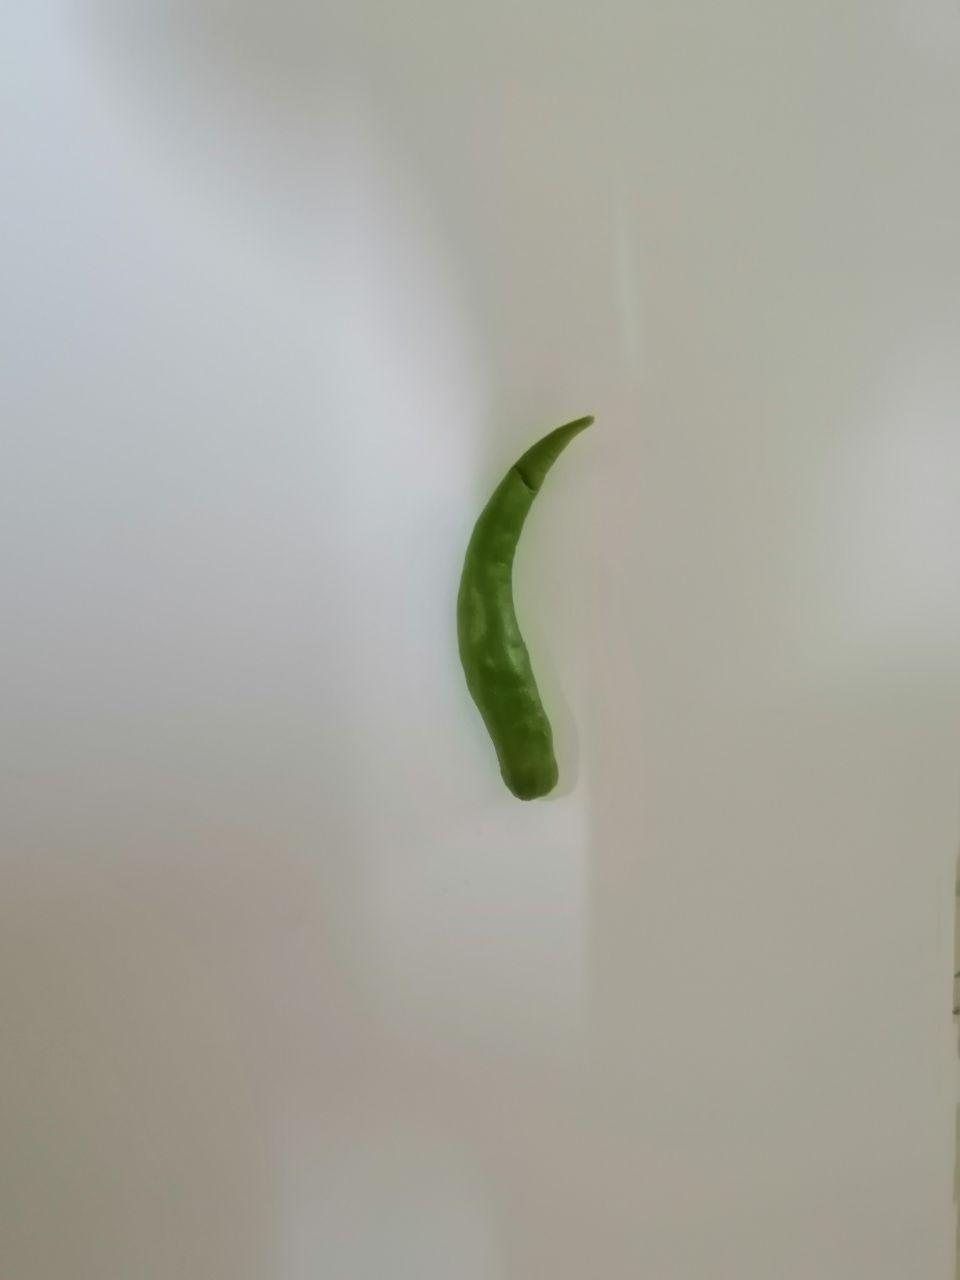lada hijau: (437, 388, 626, 831)
